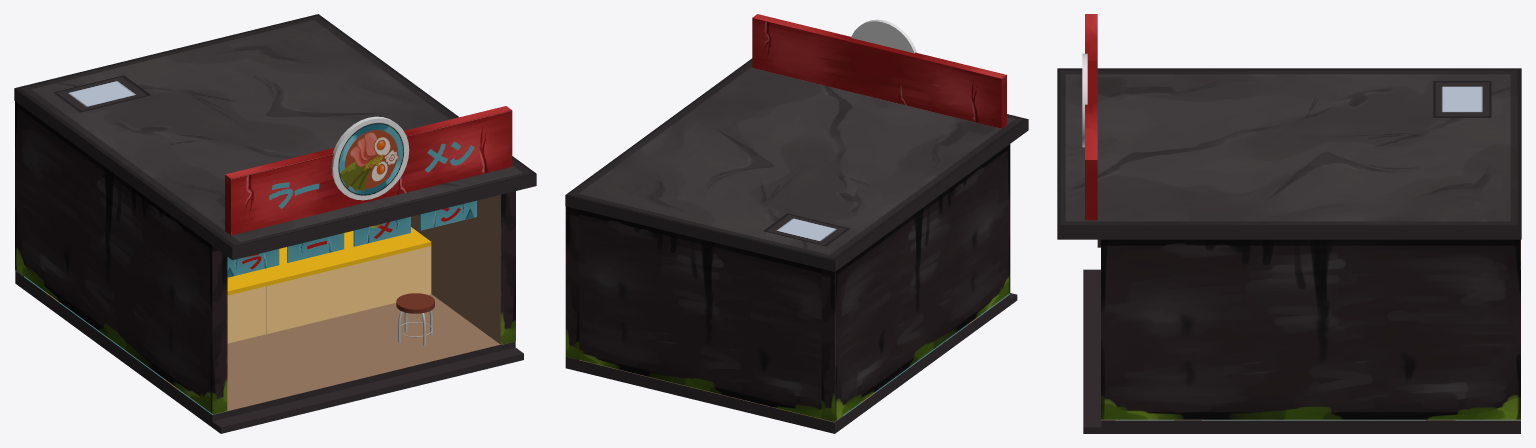
The model's file is Lame_Shop.fbx.
3 renders of one model, left to right at view 1: azimuth 30°, elevation 25°; view 2: azimuth 150°, elevation 25°; view 3: azimuth 270°, elevation 25°, orthographic. The views are drawn at different scales.
Parts seen in each view (by area): view 1: Roof, Wall_SIde.002, Floor/Ground, Roof.001, Table, Wall_SIde.001, Sign, TableDoorFront, Name_Curtin.001, Name_Curtin.003, Name_Curtin.002, Name_Curtin (+2 smaller); view 2: Roof, Wall_back, Wall_SIde.002, Roof.001, Floor/Ground, Wall_SIde.001, Sign; view 3: Roof, Wall_SIde.001, Floor/Ground, Roof.001.
Boxes of the visible parts, bbox=[...] form: Roof: bbox=[14, 14, 536, 259]; Wall_SIde.002: bbox=[15, 101, 227, 414]; Floor/Ground: bbox=[15, 271, 523, 433]; Roof.001: bbox=[225, 106, 512, 235]; Table: bbox=[252, 227, 431, 334]; Wall_SIde.001: bbox=[411, 191, 515, 344]; Sign: bbox=[331, 116, 409, 200]; TableDoorFront: bbox=[227, 286, 265, 343]; Name_Curtin.001: bbox=[287, 233, 344, 262]; Name_Curtin.003: bbox=[420, 200, 477, 230]; Name_Curtin.002: bbox=[353, 216, 410, 246]; Name_Curtin: bbox=[227, 249, 279, 277]; Roof: bbox=[565, 58, 1028, 271]; Wall_back: bbox=[579, 209, 843, 422]; Wall_SIde.002: bbox=[821, 144, 1010, 421]; Roof.001: bbox=[752, 14, 1006, 128]; Floor/Ground: bbox=[565, 293, 1017, 433]; Wall_SIde.001: bbox=[565, 206, 579, 359]; Sign: bbox=[851, 19, 916, 53]; Roof: bbox=[1057, 68, 1521, 247]; Wall_SIde.001: bbox=[1101, 239, 1520, 420]; Floor/Ground: bbox=[1083, 269, 1520, 433]; Roof.001: bbox=[1085, 14, 1097, 220].
Bounding box in the file's own units: 522 × 457 × 649.
